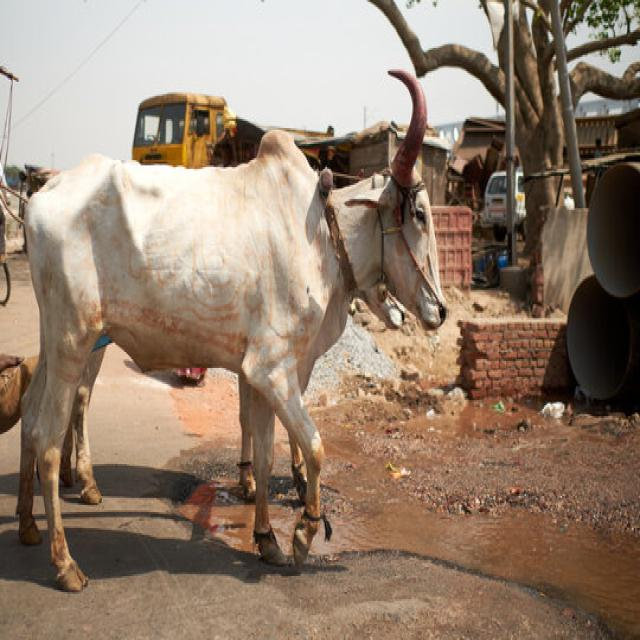Ox: (16, 68, 445, 590)
